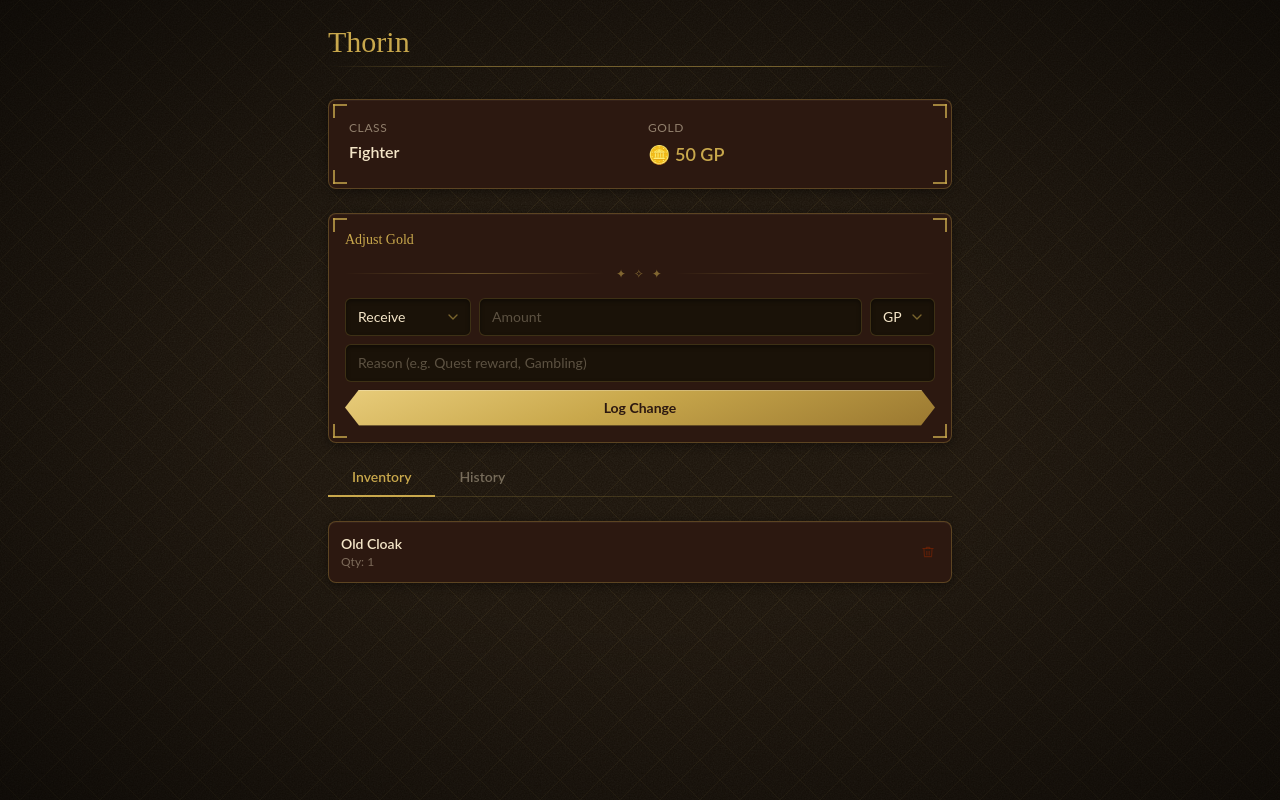
CharacterPage › discarding an inventory item removes it from the list
This screenshot has width=1280, height=800.
Expected: the text "Old Cloak" is shown, [341,534,402,554]
Click the button named "Discard" at (928, 552), box [917,541,939,563]
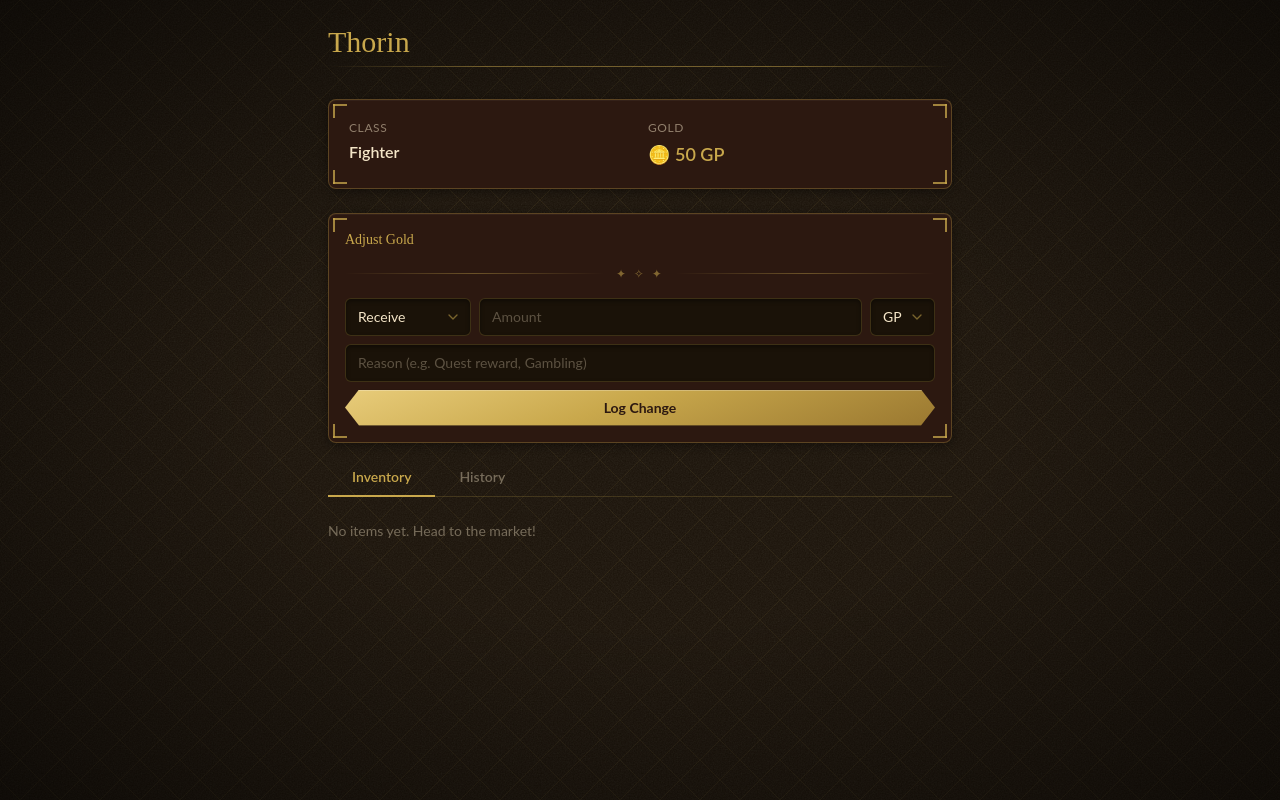
Expected: the text "Old Cloak" is gone
